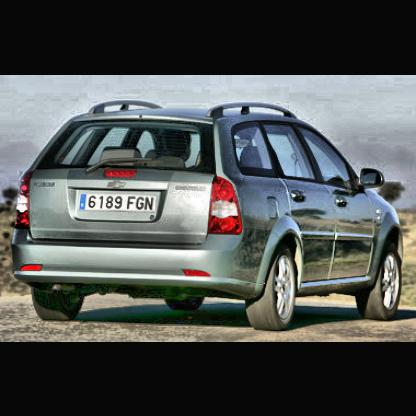Daewoo Nubira Wagon 2002: (13, 100, 406, 330)
